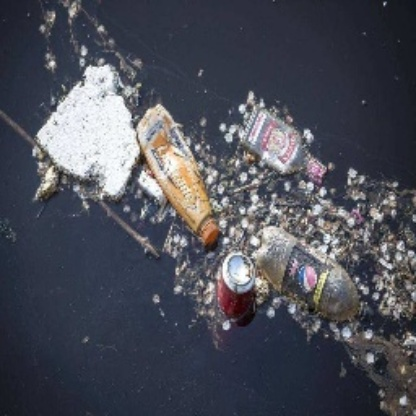bottle: (255, 223, 374, 328), (138, 101, 224, 245), (237, 103, 329, 186), (215, 252, 257, 330)
